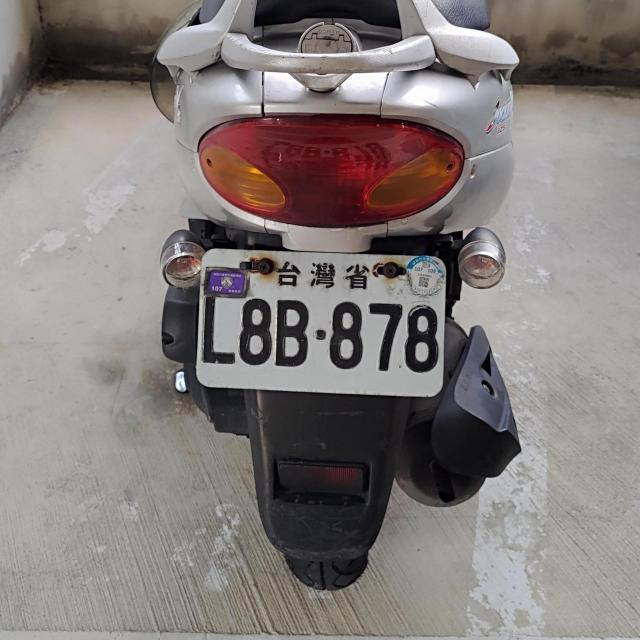W: (191, 243, 446, 397)
